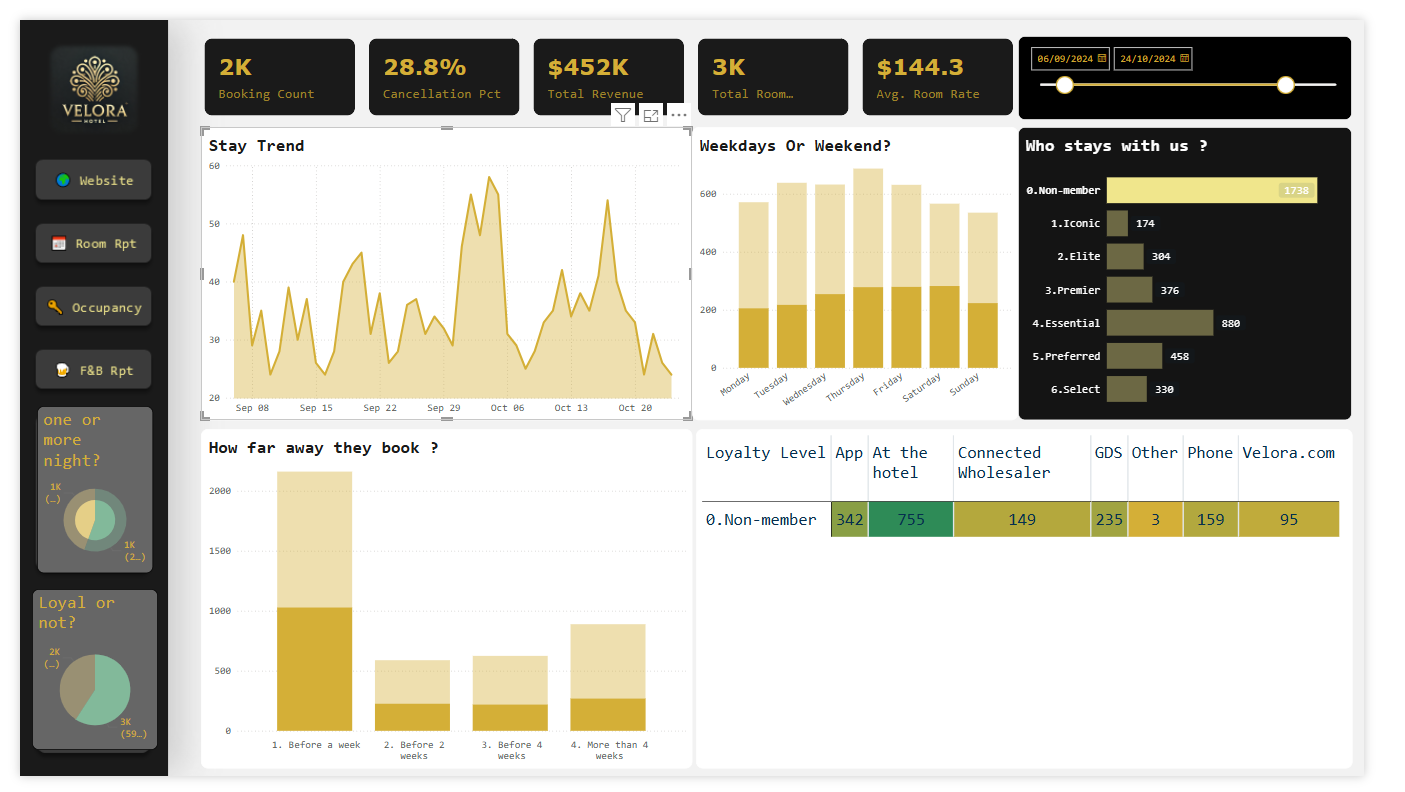

The dashboard page shown, as its layout file describes it:
{"tool":"powerbi","page":{"name":"Bookings Report BLANK","canvas":[1920,1080],"ordinal":0},"visuals":[{"type":"cardVisual","fields":{"Data":["bookings.Booking Count","bookings.Cancellation Pct","bookings.Total Revenue","bookings.Total Room Nights","bookings.Avg. Room Rate"]},"box":[258,22,1168,120],"z":0},{"type":"lineChart","title":"Stay Trend","fields":{"Category":["bookings.Stay Date"],"Y":["bookings.Booking Count"]},"box":[258,153,702.3,419],"z":1000},{"type":"slicer","fields":{"Values":["bookings.Stay Date"]},"box":[1425.8,22.6,477.5,119.7],"z":2000},{"type":"clusteredColumnChart","title":"Weekdays Or Weekend?","fields":{"Category":["bookings.Day Name"],"Y":["CountNonNull(bookings.Booking Date)"]},"box":[960.3,153,465.5,419],"z":3000},{"type":"clusteredBarChart","title":"Who stays with us ?","fields":{"Category":["bookings.Loyalty Level"],"Y":["bookings.Booking Count"]},"box":[1425.8,153,477.5,419],"z":4000},{"type":"clusteredColumnChart","title":"How far away they book ?","fields":{"Category":["bookings.How far away bucket"],"Y":["bookings.Booking Count"]},"box":[258,583.9,702.3,485.5],"z":5000},{"type":"pivotTable","fields":{"Rows":["bookings.Loyalty Level"],"Columns":["bookings.Booking Channel"],"Values":["bookings.Booking Count"]},"box":[965.6,583.9,937.7,485.5],"z":6000},{"type":"pieChart","title":"one or more night?","fields":{"Y":["bookings.Multi-night booking count","bookings.Single night booking count"]},"box":[23.9,552,166.3,239.4],"z":7000},{"type":"pieChart","title":"Loyal or not?","fields":{"Y":["bookings.Loyal Customer Booking Count","bookings.Not Loyal Customer Booking Count"]},"box":[17.3,816.7,179.6,230.1],"z":8000}]}

Visuals, with their boxes in screenshot pixels (x1, y1, x2, y2), scaled from the page's 1920x1080 canvas onto the 1405x792 screenshot:
cardVisual - bookings.Booking Count x bookings.Cancellation Pct: (x1=189, y1=16, x2=1044, y2=104)
"Stay Trend" lineChart: (x1=189, y1=112, x2=703, y2=419)
slicer - bookings.Stay Date: (x1=1043, y1=17, x2=1393, y2=104)
"Weekdays Or Weekend?" clusteredColumnChart: (x1=703, y1=112, x2=1043, y2=419)
"Who stays with us ?" clusteredBarChart: (x1=1043, y1=112, x2=1393, y2=419)
"How far away they book ?" clusteredColumnChart: (x1=189, y1=428, x2=703, y2=784)
pivotTable - bookings.Loyalty Level x bookings.Booking Channel: (x1=707, y1=428, x2=1393, y2=784)
"one or more night?" pieChart: (x1=17, y1=405, x2=139, y2=580)
"Loyal or not?" pieChart: (x1=13, y1=599, x2=144, y2=768)
